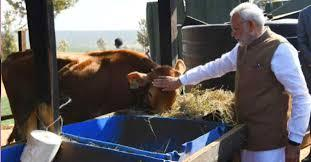cow: (1, 48, 186, 143)
